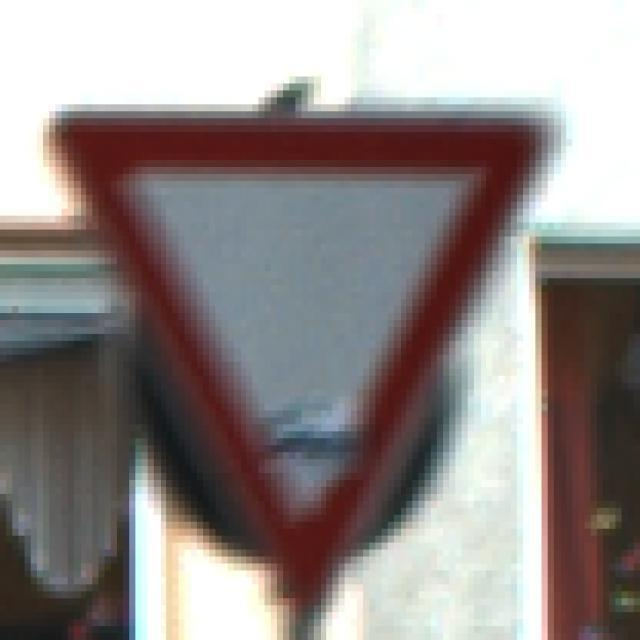give way: (37, 86, 560, 596)
